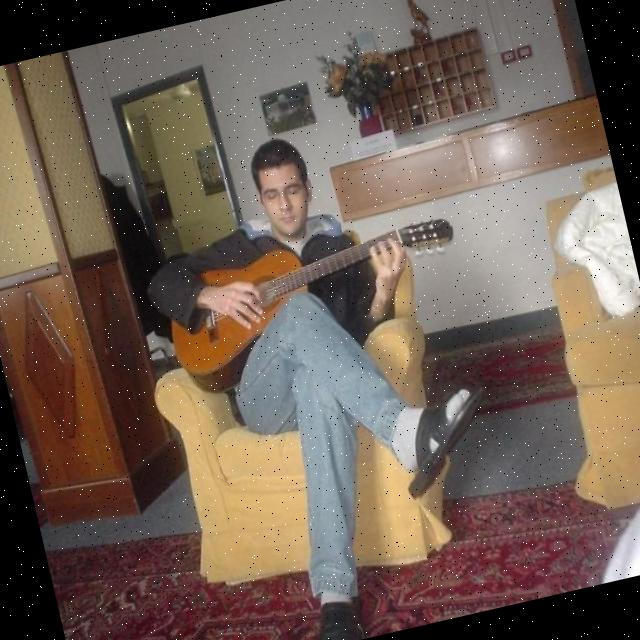guitar: (155, 205, 478, 400)
